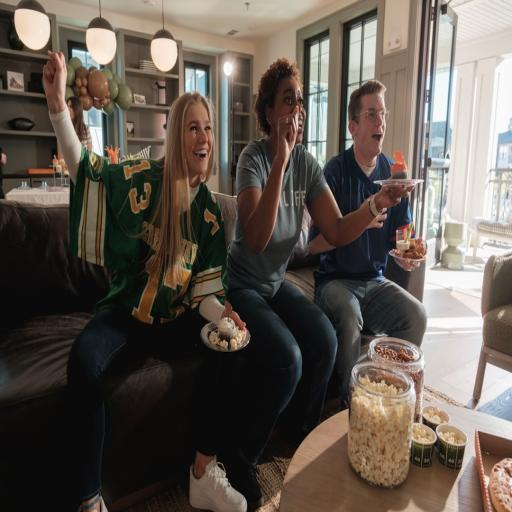face: (181, 102, 213, 176), (361, 90, 390, 160), (280, 82, 309, 146)
